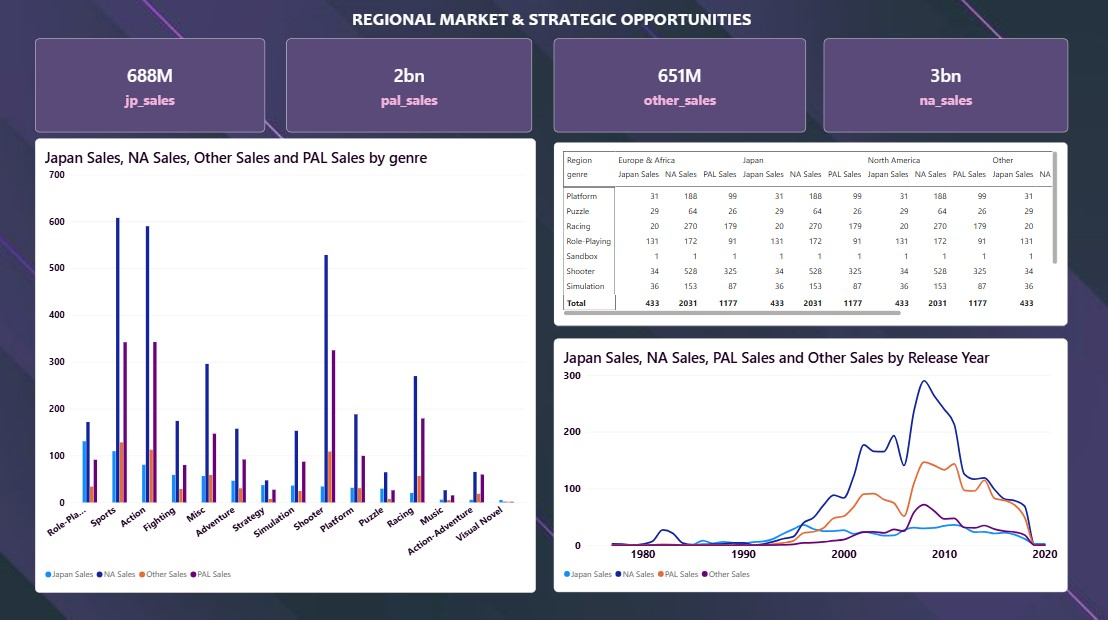

The page's visual inventory and layout, read from the dashboard file:
{"tool":"powerbi","page":{"name":"Page 3","canvas":[1920,1080],"ordinal":2},"visuals":[{"type":"clusteredColumnChart","fields":{"Category":["data.genre"],"Y":["measure.Japan Sales","measure.NA Sales","measure.Other Sales","measure.PAL Sales"]},"box":[59.6,246.7,867.6,786.2],"z":0},{"type":"lineChart","fields":{"Category":["data.Release Year"],"Y":["measure.Japan Sales","measure.NA Sales","measure.PAL Sales","measure.Other Sales"]},"box":[959.7,593.7,889.3,439.2],"z":1000},{"type":"pivotTable","fields":{"Columns":["Regions.Region"],"Rows":["data.genre"],"Values":["measure.Japan Sales","measure.NA Sales","measure.PAL Sales"]},"box":[959.7,252.1,889.3,317.2],"z":2000},{"type":"card","fields":{"Values":["measure.jp_sales"]},"box":[59.6,73.2,398.5,162],"z":3000},{"type":"card","fields":{"Values":["measure.na_sales"]},"box":[1426.1,73.2,422.9,162],"z":4000},{"type":"card","fields":{"Values":["measure.pal_sales"]},"box":[496.1,73.2,425.6,162],"z":5000},{"type":"card","fields":{"Values":["measure.other_sales"]},"box":[959.7,73.2,436.5,162],"z":6000},{"type":"textbox","box":[59.6,19,1789.4,54.2],"z":7000}]}

Visuals, with their boxes in screenshot pixels (x1, y1, x2, y2), scaled from the page's 1920x1080 canvas onto the 1108x620 screenshot:
clusteredColumnChart - data.genre x measure.Japan Sales: pyautogui.locateOnScreen(34, 142, 535, 593)
lineChart - data.Release Year x measure.Japan Sales: pyautogui.locateOnScreen(554, 341, 1067, 593)
pivotTable - Regions.Region x data.genre: pyautogui.locateOnScreen(554, 145, 1067, 327)
card - measure.jp_sales: pyautogui.locateOnScreen(34, 42, 264, 135)
card - measure.na_sales: pyautogui.locateOnScreen(823, 42, 1067, 135)
card - measure.pal_sales: pyautogui.locateOnScreen(286, 42, 532, 135)
card - measure.other_sales: pyautogui.locateOnScreen(554, 42, 806, 135)
textbox: pyautogui.locateOnScreen(34, 11, 1067, 42)
